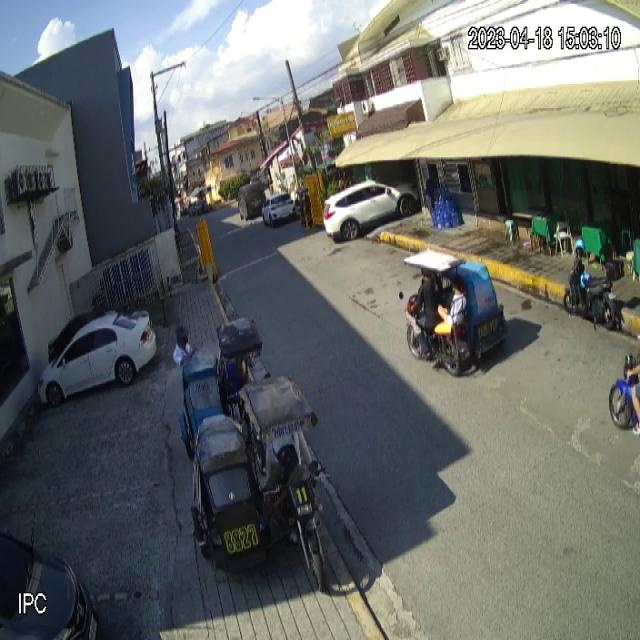Car: (35, 306, 158, 412), (321, 177, 421, 244)
Motorcycle: (562, 252, 626, 334)
Tricycle: (190, 372, 328, 592), (400, 246, 509, 376), (178, 312, 265, 463)
